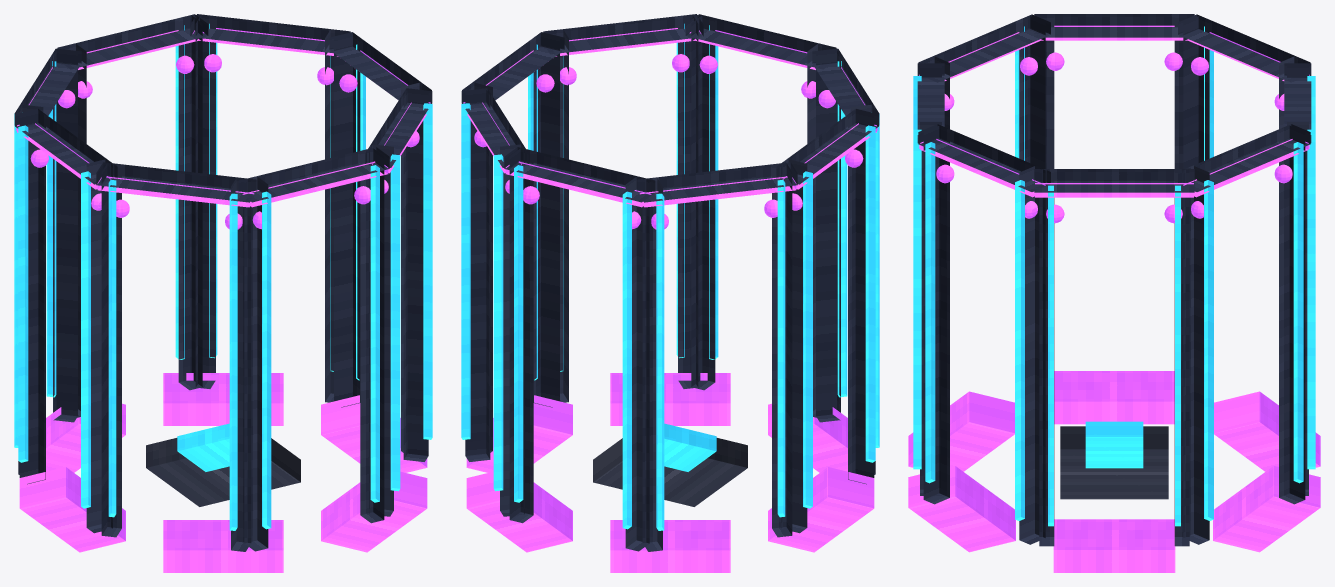
File: club_environment.gltf
3 renders of one model, left to right at view 1: azimuth 30°, elevation 25°; view 2: azimuth 150°, elevation 25°; view 3: azimuth 270°, elevation 25°, orthographic.
Visible parts, largest first — view 1: Structural bay 5, Structural bay 3, Structural bay 4, Structural bay 6, Structural bay 1, Structural bay 2, Structural bay 8, Structural bay 7, Centerpiece, Decoration 3, Decoration 2, Decoration 4 (+3 smaller); view 2: Structural bay 1, Structural bay 3, Structural bay 2, Structural bay 8, Structural bay 5, Structural bay 4, Structural bay 6, Structural bay 7, Centerpiece, Decoration 1, Decoration 2, Decoration 6 (+3 smaller); view 3: Structural bay 6, Structural bay 8, Structural bay 7, Centerpiece, Structural bay 2, Structural bay 4, Structural bay 3, Decoration 5, Decoration 2, Structural bay 1, Structural bay 5, Decoration 4 (+3 smaller).
Boxes of the visible parts, x1=… form: Structural bay 5: x1=238, y1=147, x2=389, y2=551; Structural bay 3: x1=15, y1=109, x2=117, y2=533; Structural bay 4: x1=96, y1=162, x2=256, y2=551; Structural bay 6: x1=365, y1=88, x2=432, y2=516; Structural bay 1: x1=57, y1=14, x2=208, y2=417; Structural bay 2: x1=14, y1=48, x2=81, y2=474; Structural bay 8: x1=190, y1=14, x2=350, y2=402; Structural bay 7: x1=329, y1=32, x2=431, y2=454; Centerpiece: x1=146, y1=423, x2=300, y2=506; Decoration 3: x1=163, y1=520, x2=283, y2=572; Decoration 2: x1=19, y1=467, x2=125, y2=552; Decoration 4: x1=321, y1=471, x2=427, y2=552; Structural bay 1: x1=504, y1=147, x2=655, y2=551; Structural bay 3: x1=776, y1=109, x2=878, y2=533; Structural bay 2: x1=637, y1=162, x2=797, y2=551; Structural bay 8: x1=461, y1=88, x2=528, y2=516; Structural bay 5: x1=685, y1=14, x2=836, y2=417; Structural bay 4: x1=812, y1=48, x2=879, y2=474; Structural bay 6: x1=543, y1=14, x2=703, y2=402; Structural bay 7: x1=462, y1=32, x2=564, y2=452; Centerpiece: x1=593, y1=423, x2=747, y2=506; Decoration 1: x1=610, y1=520, x2=730, y2=572; Decoration 2: x1=768, y1=467, x2=874, y2=552; Decoration 6: x1=466, y1=471, x2=572, y2=552; Structural bay 6: x1=918, y1=124, x2=1050, y2=544; Structural bay 8: x1=1178, y1=124, x2=1310, y2=544; Structural bay 7: x1=1034, y1=169, x2=1194, y2=546; Centerpiece: x1=1060, y1=421, x2=1168, y2=499; Structural bay 2: x1=1178, y1=14, x2=1310, y2=168; Structural bay 4: x1=918, y1=14, x2=1050, y2=168; Structural bay 3: x1=1034, y1=14, x2=1194, y2=168; Decoration 5: x1=1053, y1=519, x2=1175, y2=572; Decoration 2: x1=1054, y1=371, x2=1174, y2=424; Structural bay 1: x1=1284, y1=63, x2=1315, y2=495; Structural bay 5: x1=913, y1=63, x2=944, y2=495; Decoration 4: x1=908, y1=466, x2=1015, y2=552.
Size of the model in its own units: 4.8 by 5.1 by 4.88.
Materials: 4 (4 with a texture image).
